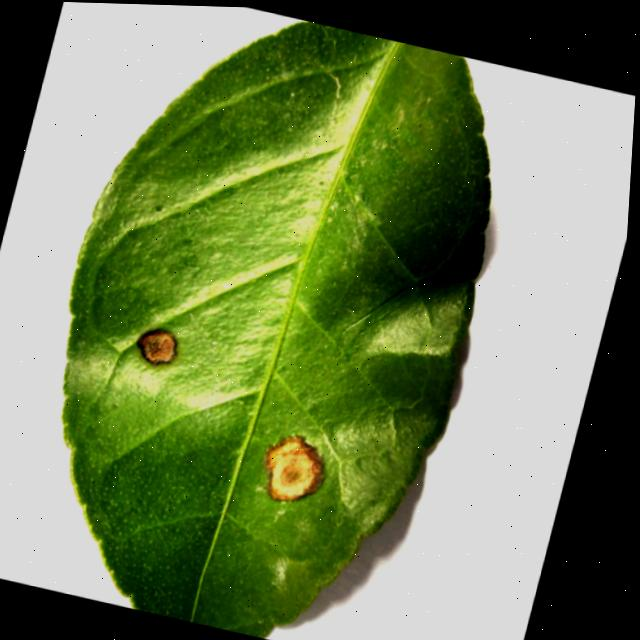antracnose: (63, 22, 489, 637), (264, 436, 323, 501), (138, 330, 175, 364)
